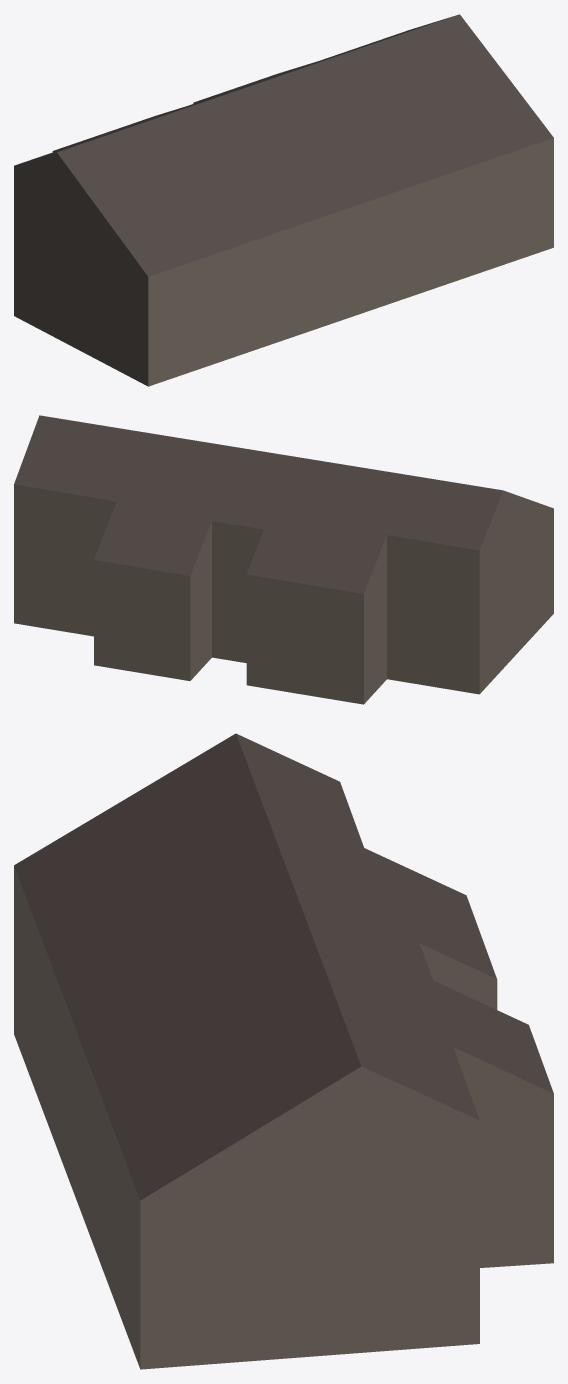
The picture shows the model from 3 angles, top to bottom: view 1: azimuth 30°, elevation 25°; view 2: azimuth 150°, elevation 25°; view 3: azimuth 270°, elevation 25°; orthographic projection. The views are drawn at different scales.
Parts seen in each view (by area): view 1: HP-w1376988719; view 2: HP-w1376988719; view 3: HP-w1376988719.
Part boxes in pixels (x1,y1,x2,y2): HP-w1376988719: [14, 14, 553, 386]; HP-w1376988719: [14, 415, 553, 704]; HP-w1376988719: [14, 733, 553, 1369].
Size of the model in its own units: 27.17 by 10.17 by 17.38.
